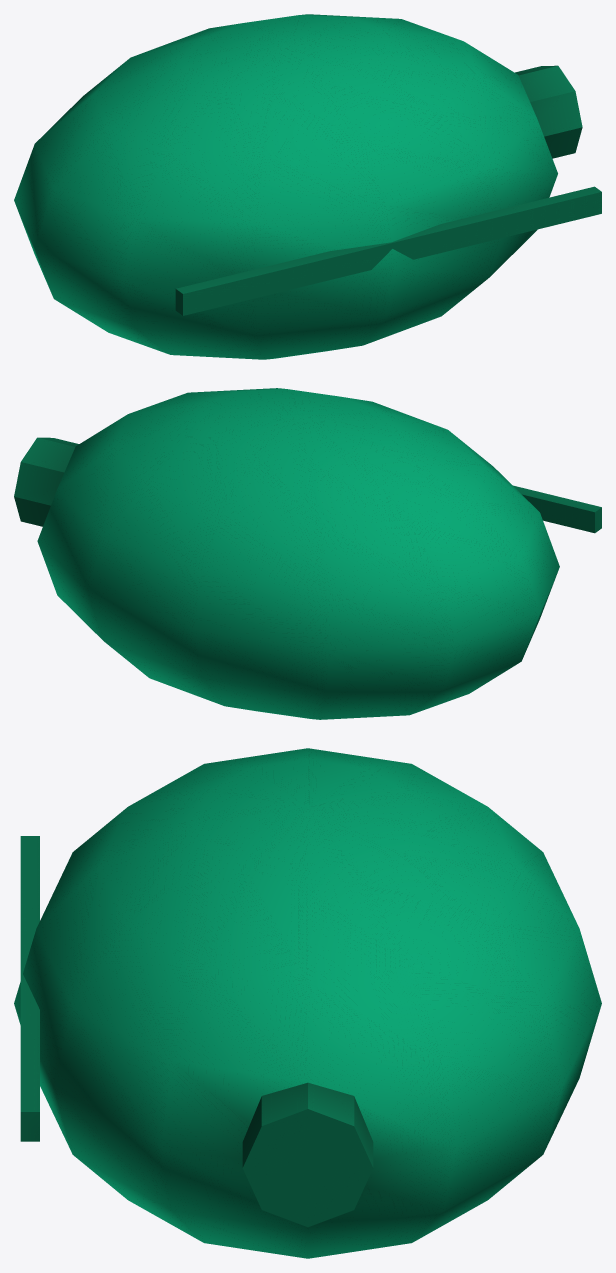
Rendered from part_sandbag.glb.
3 views of the same model, one above another, from view 1: azimuth 30°, elevation 25°; view 2: azimuth 150°, elevation 25°; view 3: azimuth 270°, elevation 25° (orthographic). The views are drawn at different scales.
Visible parts, largest first — view 1: part_sandbag; view 2: part_sandbag; view 3: part_sandbag.
Boxes of the visible parts, <box> form: part_sandbag: <box>14,14,601,359</box>; part_sandbag: <box>14,388,601,719</box>; part_sandbag: <box>14,748,601,1258</box>.
Size of the model in its own units: 0.25 by 0.132 by 0.18.
1 material, 1 textured.
